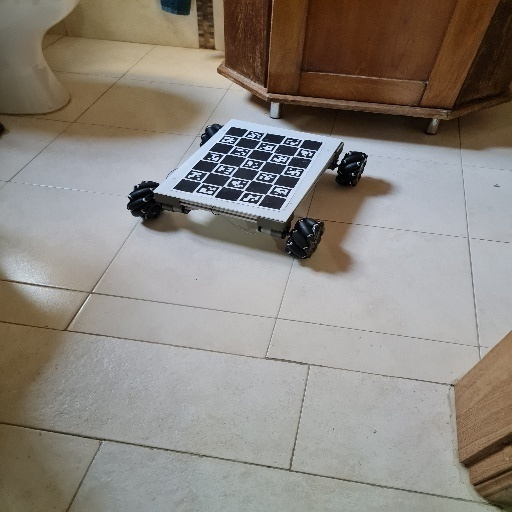Omniwheel: (126, 117, 369, 262)
